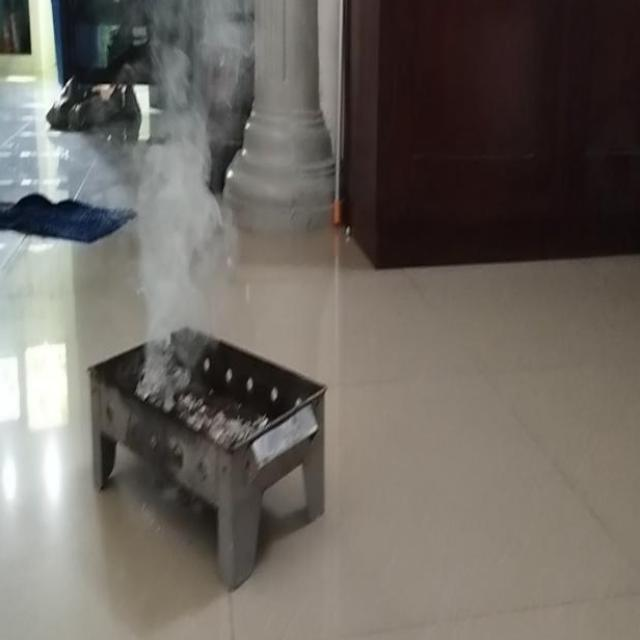fire: (132, 15, 234, 354)
